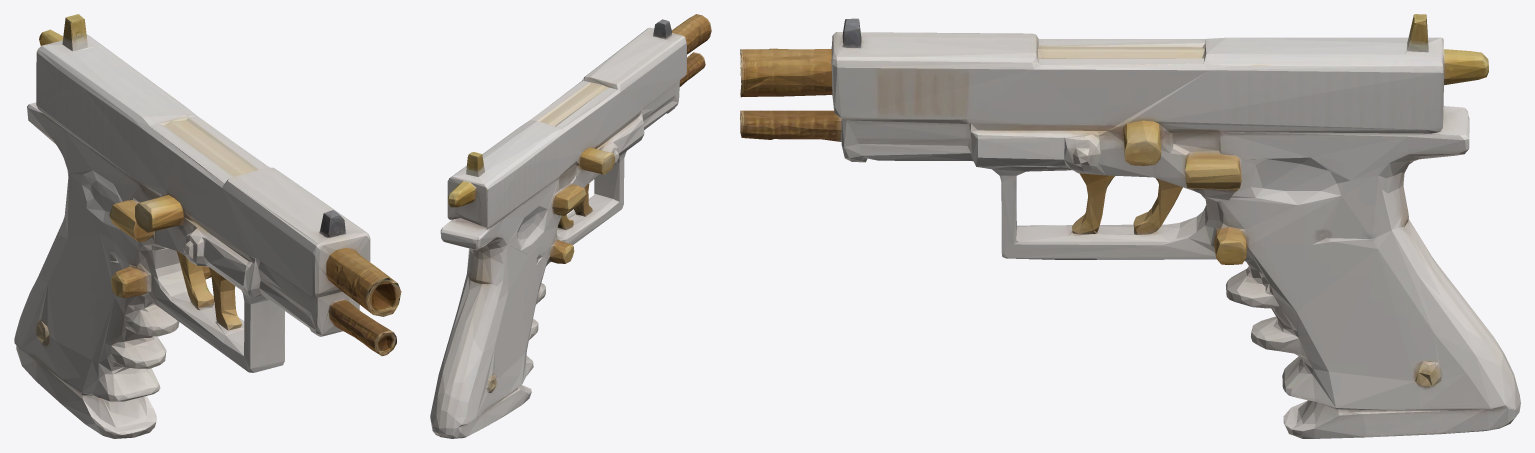
Rendered from white_glock.glb.
3 views of the same model, side by side, from view 1: azimuth 30°, elevation 25°; view 2: azimuth 150°, elevation 25°; view 3: azimuth 270°, elevation 25° (orthographic). The views are drawn at different scales.
Parts seen in each view (by area): view 1: geometry_0; view 2: geometry_0; view 3: geometry_0.
Boxes of the visible parts, bbox=[...] form: geometry_0: bbox=[14, 14, 401, 438]; geometry_0: bbox=[430, 14, 711, 438]; geometry_0: bbox=[740, 14, 1520, 438].
Size of the model in its own units: 0.1994 by 0.5775 by 0.9998.
1 material, 1 textured.
